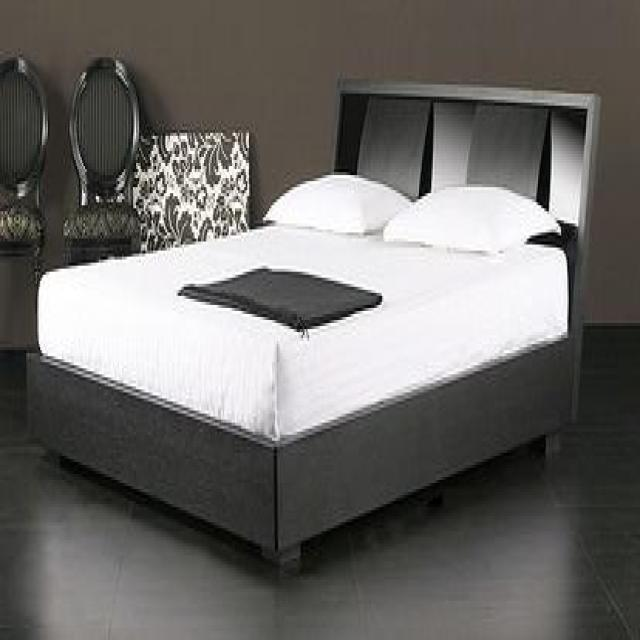bed: (29, 79, 598, 570)
